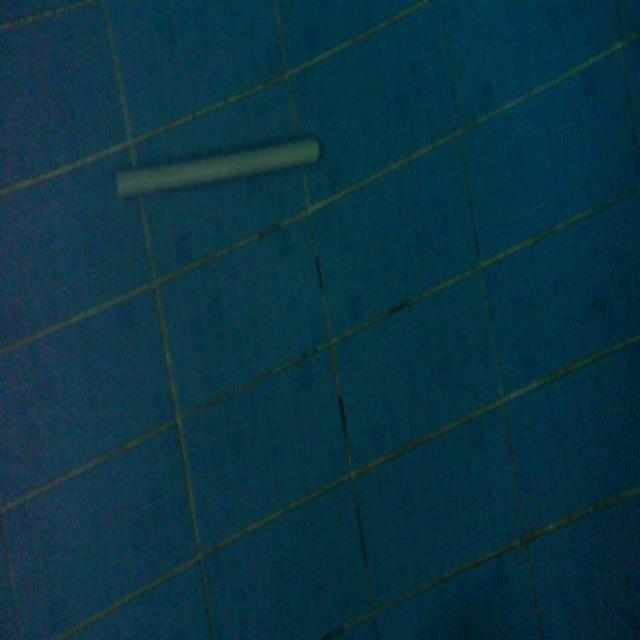Cube: (114, 130, 321, 201)
